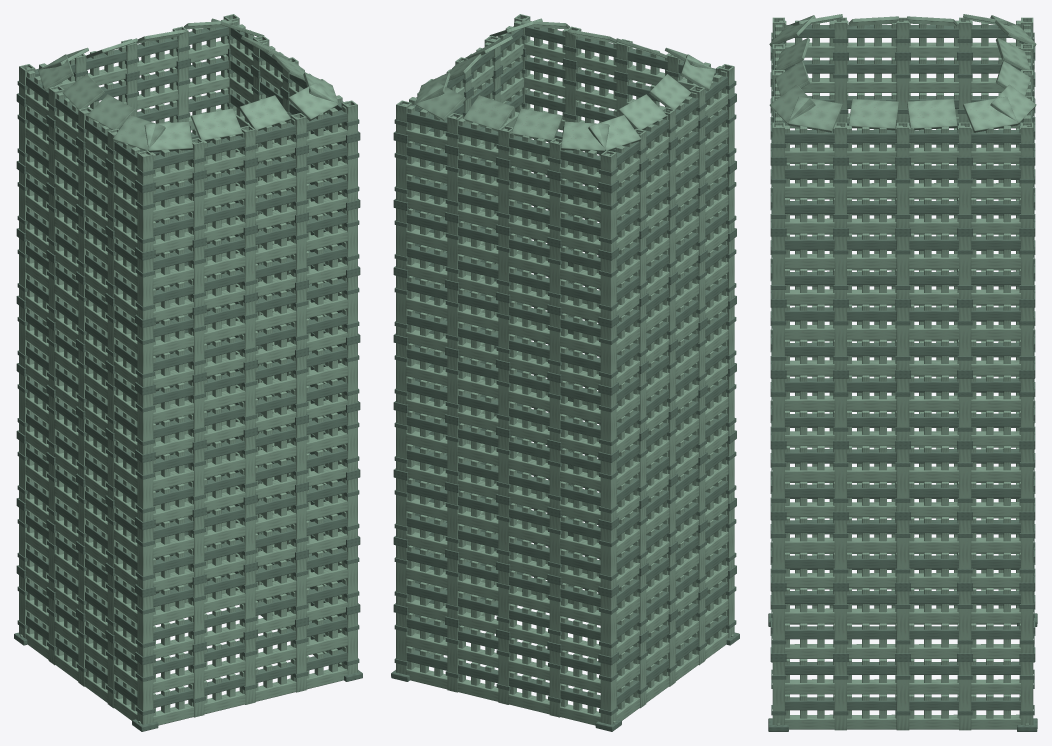
3 renders of one model, left to right at view 1: azimuth 30°, elevation 25°; view 2: azimuth 150°, elevation 25°; view 3: azimuth 270°, elevation 25°, orthographic. The views are drawn at different scales.
Visible parts, largest first — view 1: Crown alloy petal 0-1, Crown alloy petal 0-0, Crown alloy petal 0-2, Crown alloy petal 3-3, Crown alloy petal 3-2, Crown alloy petal 0-3, Tier 0 side 0 post 0, Tier 1 side 0 post 0, Tier 6 side 0 post 0, Tier 7 side 0 post 0, Tier 3 side 0 post 0, Tier 4 side 0 post 0 (+36 smaller); view 2: Crown alloy petal 2-2, Crown alloy petal 2-3, Crown alloy petal 2-1, Crown alloy petal 3-0, Crown alloy petal 3-1, Crown alloy petal 2-0, Tier 0 side 3 post 0, Tier 1 side 3 post 0, Tier 6 side 3 post 0, Tier 7 side 3 post 0, Tier 3 side 3 post 0, Tier 4 side 3 post 0 (+36 smaller); view 3: Crown alloy petal 1-1, Crown alloy petal 1-2, Crown alloy petal 1-3, Crown alloy petal 1-0, Tier 0 side 1 post 2, Crown alloy petal 0-3, Crown alloy petal 2-0, Tier 0 side 1 post 1, Tier 0 side 1 post 3, Tier 3 side 1 post 2, Tier 4 side 1 post 2, Tier 5 side 1 post 2 (+188 smaller).
Boxes of the visible parts, left/top/right/bottom form: Crown alloy petal 0-1: left=191, top=108, right=242, bottom=141; Crown alloy petal 0-0: left=144, top=121, right=192, bottom=152; Crown alloy petal 0-2: left=239, top=95, right=290, bottom=130; Crown alloy petal 3-3: left=113, top=115, right=165, bottom=150; Crown alloy petal 3-2: left=87, top=94, right=135, bottom=130; Crown alloy petal 0-3: left=288, top=82, right=338, bottom=120; Tier 0 side 0 post 0: left=137, top=662, right=153, bottom=724; Tier 1 side 0 post 0: left=137, top=594, right=153, bottom=656; Tier 6 side 0 post 0: left=137, top=257, right=153, bottom=319; Tier 7 side 0 post 0: left=137, top=190, right=153, bottom=252; Tier 3 side 0 post 0: left=137, top=459, right=153, bottom=521; Tier 4 side 0 post 0: left=137, top=392, right=153, bottom=454; Crown alloy petal 2-2: left=511, top=108, right=562, bottom=141; Crown alloy petal 2-3: left=561, top=121, right=609, bottom=152; Crown alloy petal 2-1: left=463, top=95, right=514, bottom=131; Crown alloy petal 3-0: left=588, top=115, right=641, bottom=150; Crown alloy petal 3-1: left=618, top=94, right=666, bottom=129; Crown alloy petal 2-0: left=415, top=82, right=465, bottom=120; Tier 0 side 3 post 0: left=600, top=662, right=616, bottom=724; Tier 1 side 3 post 0: left=600, top=594, right=616, bottom=656; Tier 6 side 3 post 0: left=600, top=257, right=616, bottom=319; Tier 7 side 3 post 0: left=600, top=190, right=616, bottom=252; Tier 3 side 3 post 0: left=600, top=459, right=616, bottom=521; Tier 4 side 3 post 0: left=600, top=392, right=616, bottom=454; Crown alloy petal 1-1: left=848, top=99, right=898, bottom=130; Crown alloy petal 1-2: left=907, top=99, right=957, bottom=130; Crown alloy petal 1-3: left=963, top=96, right=1017, bottom=132; Crown alloy petal 1-0: left=788, top=96, right=842, bottom=132; Tier 0 side 1 post 2: left=896, top=662, right=909, bottom=730; Crown alloy petal 0-3: left=769, top=84, right=815, bottom=124; Crown alloy petal 2-0: left=990, top=84, right=1036, bottom=124; Tier 0 side 1 post 1: left=834, top=662, right=846, bottom=730; Tier 0 side 1 post 3: left=959, top=662, right=971, bottom=730; Tier 3 side 1 post 2: left=896, top=449, right=909, bottom=511; Tier 4 side 1 post 2: left=896, top=378, right=909, bottom=440; Tier 5 side 1 post 2: left=896, top=307, right=909, bottom=369.
Bounding box in the file's own units: 1.95 × 4.93 × 1.95.
2 materials, 2 textured.
